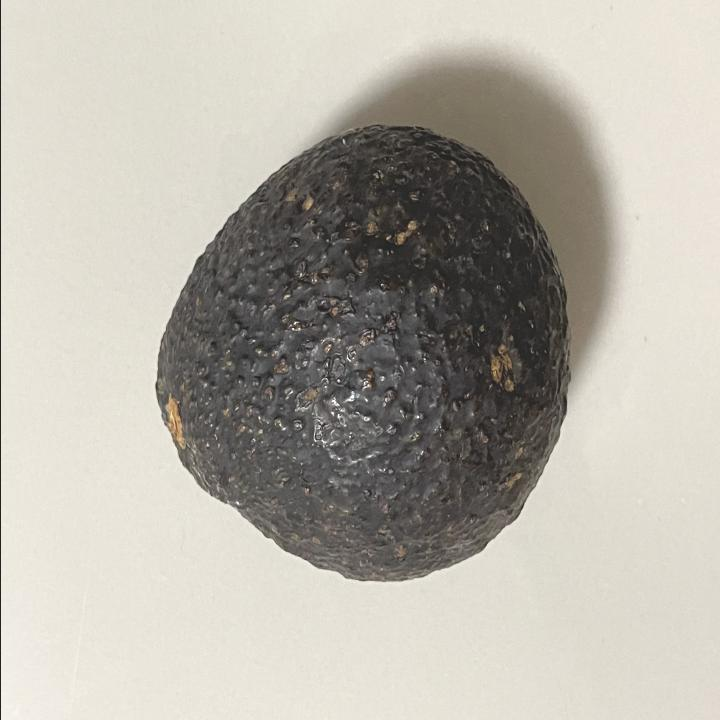Level2: (144, 114, 576, 592)
